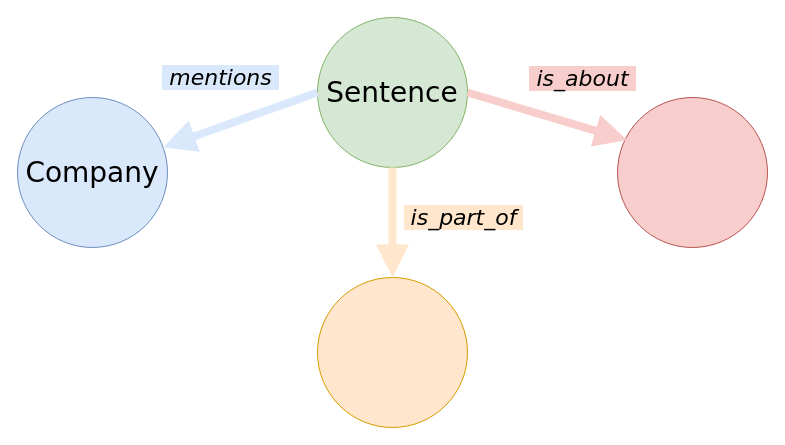
The diagram is 785 pixels wide and 445 high, and some of its shapes have lost their labels. The shapes that lost their labels are listed below. From the top down, each one's centre as x and y in pixels, then its label:
At (692,172): "Topic".
At (392,352): "Article".
